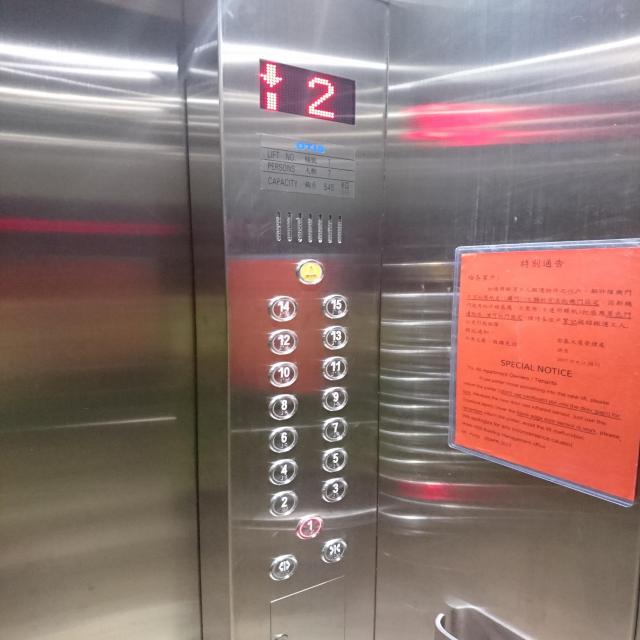1: (296, 514, 323, 540)
10: (268, 361, 298, 388)
11: (322, 356, 348, 381)
12: (268, 328, 298, 354)
13: (322, 325, 349, 350)
14: (268, 296, 298, 321)
15: (322, 294, 348, 319)
2: (269, 491, 298, 516)
3: (320, 478, 348, 502)
4: (268, 459, 298, 485)
5: (322, 447, 348, 472)
6: (268, 426, 298, 453)
7: (321, 417, 348, 442)
8: (269, 394, 298, 420)
9: (322, 386, 349, 411)
alarm: (295, 258, 324, 284)
close: (320, 537, 348, 564)
led: (258, 57, 356, 126)
open: (269, 554, 298, 581)
